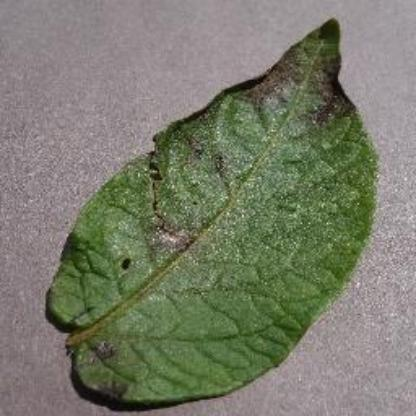Late-Blight: (39, 6, 391, 414)
